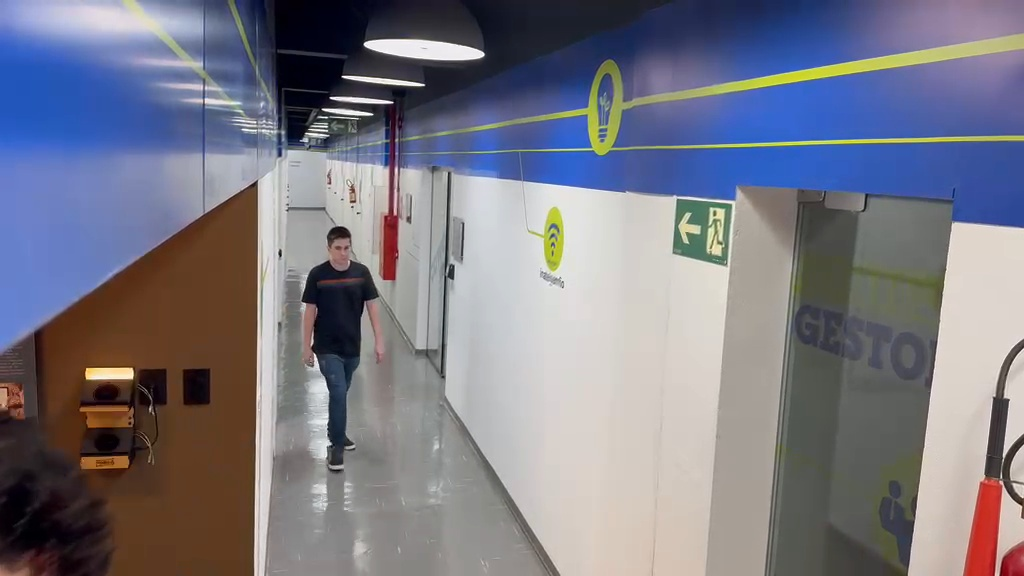person: (301, 224, 382, 467), (0, 421, 117, 573)
